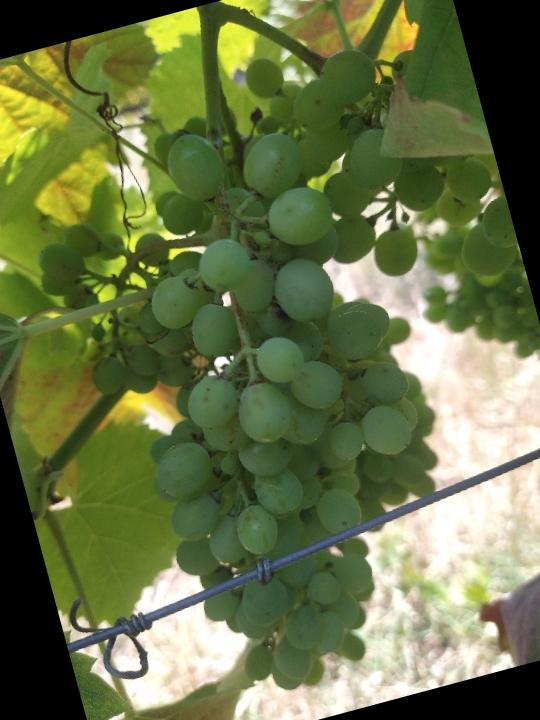grape: (0, 2, 540, 720)
